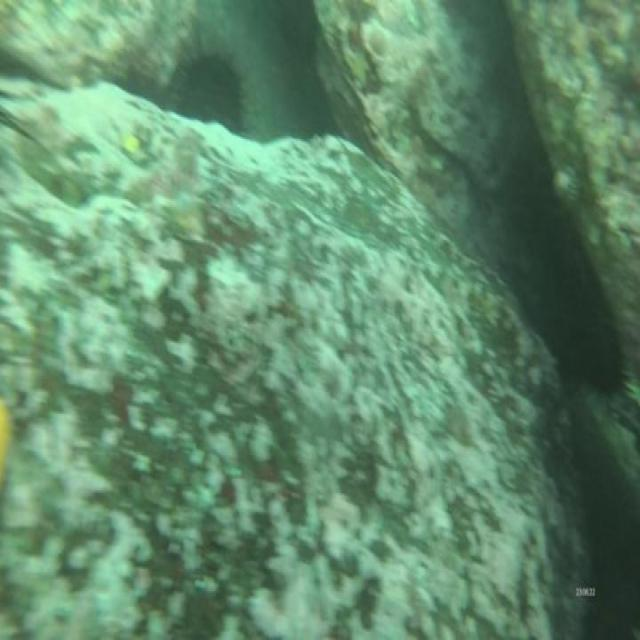echinus: (175, 46, 245, 134), (566, 310, 625, 400)
